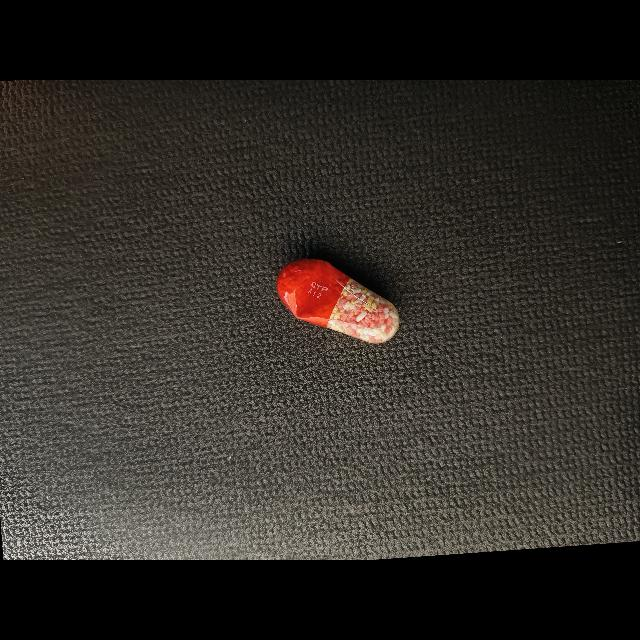Defective Capsule: (277, 258, 400, 344)
